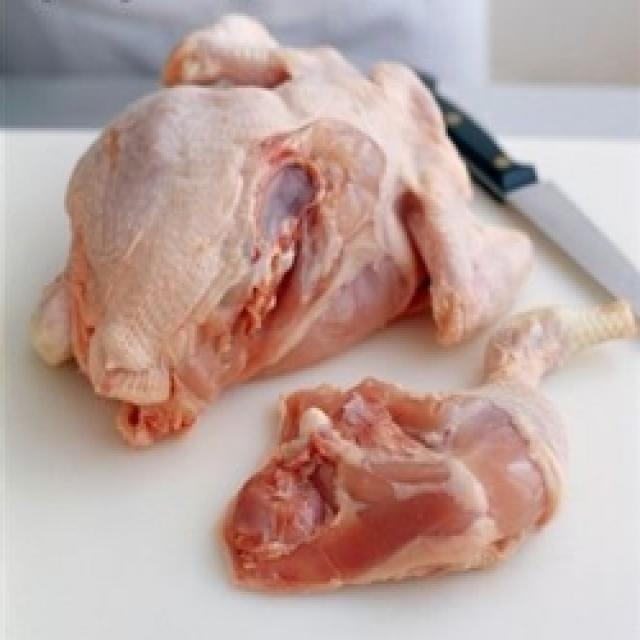chicken: (34, 18, 525, 442), (223, 302, 633, 588)
